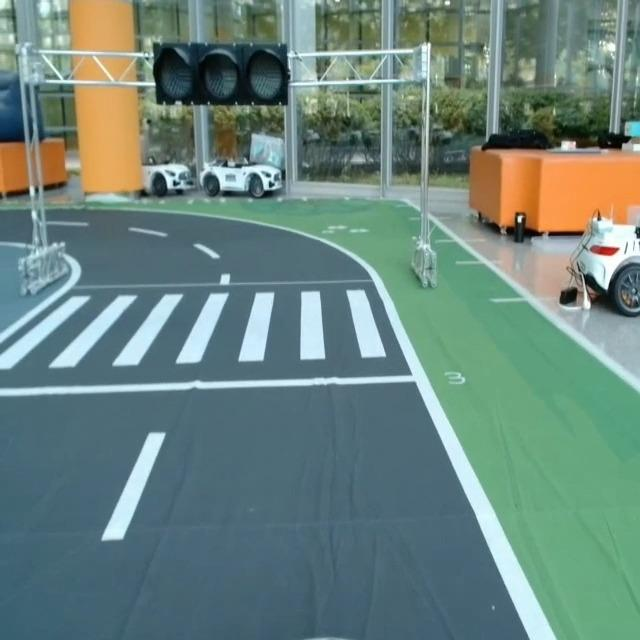traffic-light: (154, 43, 295, 108)
